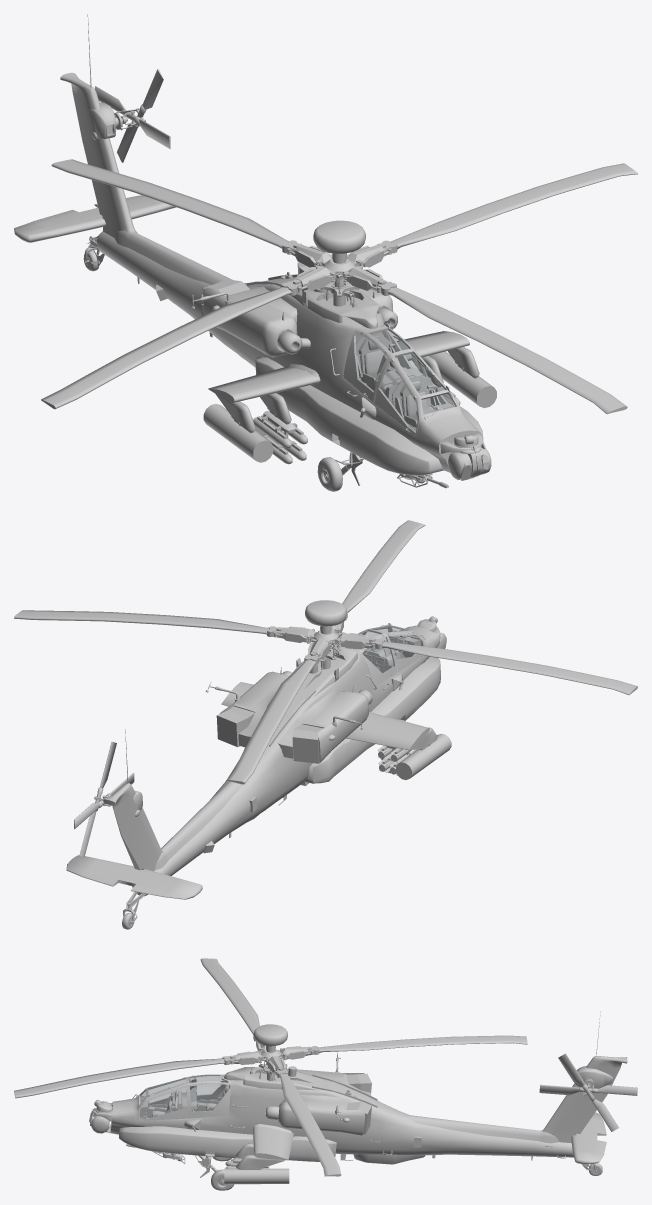
3 views of the same model, one above another, from view 1: azimuth 30°, elevation 25°; view 2: azimuth 150°, elevation 25°; view 3: azimuth 270°, elevation 25° (orthographic). The views are drawn at different scales.
Visible parts, largest first — view 1: apache_Apache_0, apache2_Material #7_0, windows_Glass_0; view 2: apache_Apache_0, apache2_Material #7_0, windows_Glass_0; view 3: apache_Apache_0, apache2_Material #7_0, windows_Glass_0.
Boxes of the visible parts, box(x1,y1,x2,y2) form: apache_Apache_0: box(14, 14, 491, 491); apache2_Material #7_0: box(41, 69, 637, 488); windows_Glass_0: box(355, 329, 455, 431); apache_Apache_0: box(66, 616, 446, 929); apache2_Material #7_0: box(14, 520, 637, 857); windows_Glass_0: box(361, 626, 422, 673); apache_Apache_0: box(89, 1011, 627, 1190); apache2_Material #7_0: box(14, 958, 637, 1184); windows_Glass_0: box(140, 1075, 229, 1118).
Bounding box in the file's own units: 604 × 215 × 734.
